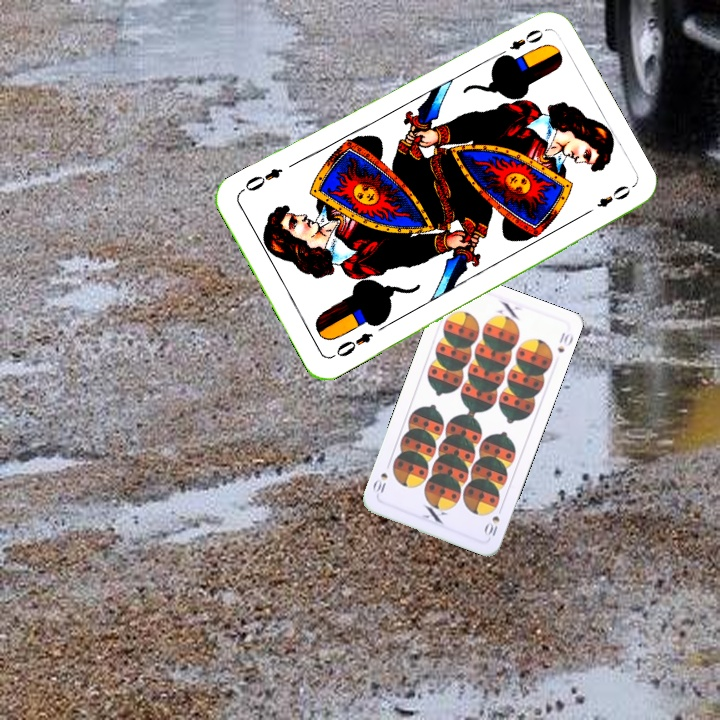EO: (492, 25, 546, 62), (327, 328, 376, 361)
S10: (480, 502, 505, 540)
